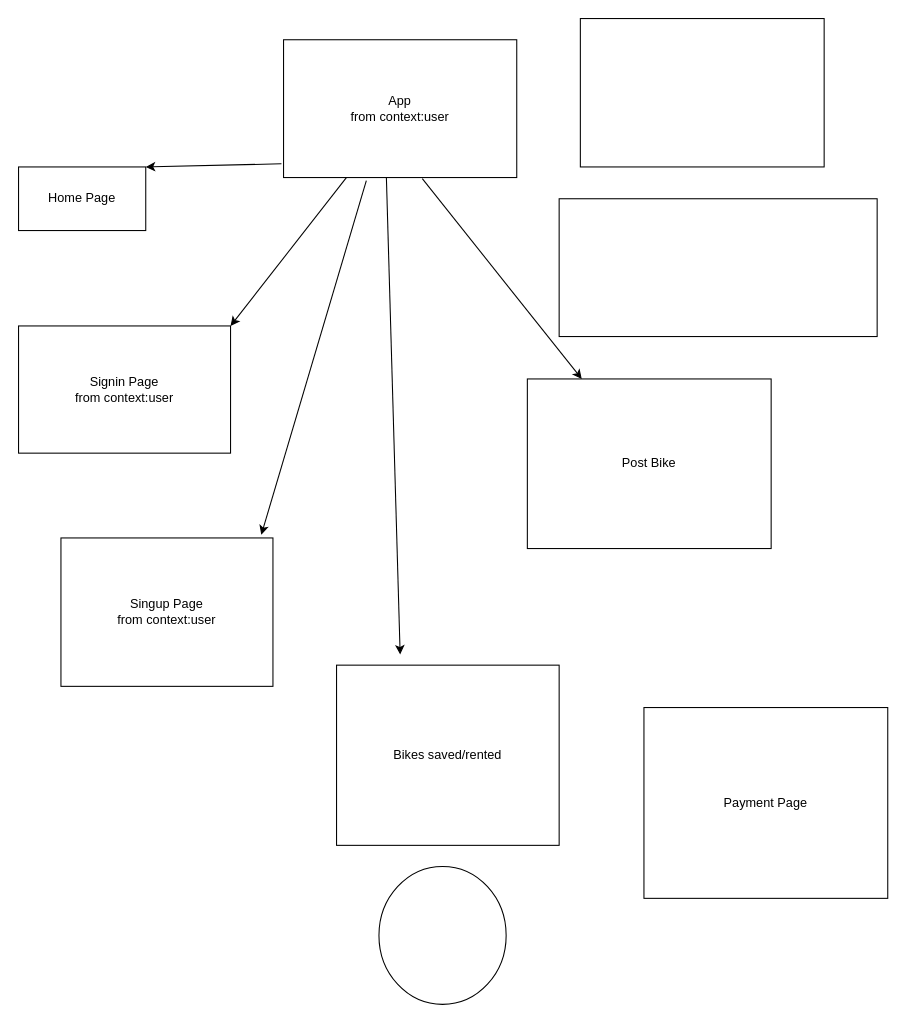
This 906x1023 diagram has some shape labels left out. The shapes that lost their labels are listed below. From the top down, each one's box as (x1, y1, x2, y2) in pixels, then its label:
(579, 17, 824, 167): Context user,bikes
(558, 198, 877, 337): NavBar from context:user & bikes
(378, 865, 506, 1004): Comments
